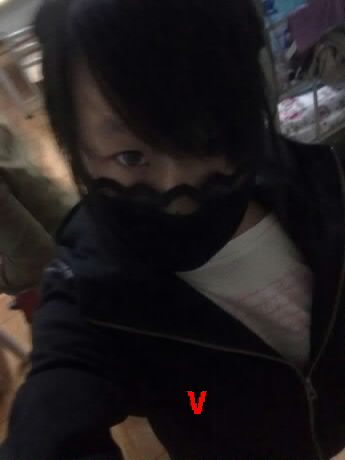face_mask: (76, 55, 231, 289)
